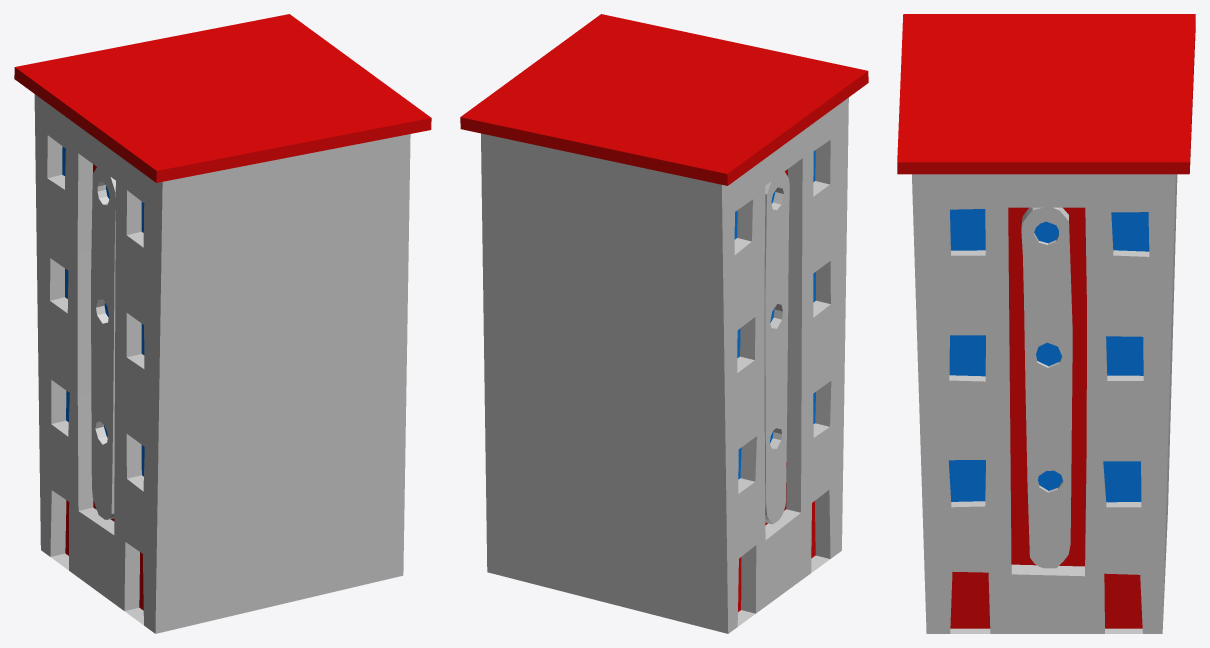
The model's file is Building2 1.fbx.
The picture shows the model from 3 angles, left to right: view 1: azimuth 30°, elevation 25°; view 2: azimuth 150°, elevation 25°; view 3: azimuth 270°, elevation 25°; orthographic projection. The views are drawn at different scales.
Parts seen in each view (by area): view 1: Plane; view 2: Plane; view 3: Plane.
Part boxes in pixels (x1,y1,x2,y2): Plane: (14,14,431,633); Plane: (460,14,868,633); Plane: (897,14,1195,633).
Bounding box in the file's own units: 83.15 × 139 × 76.61.
